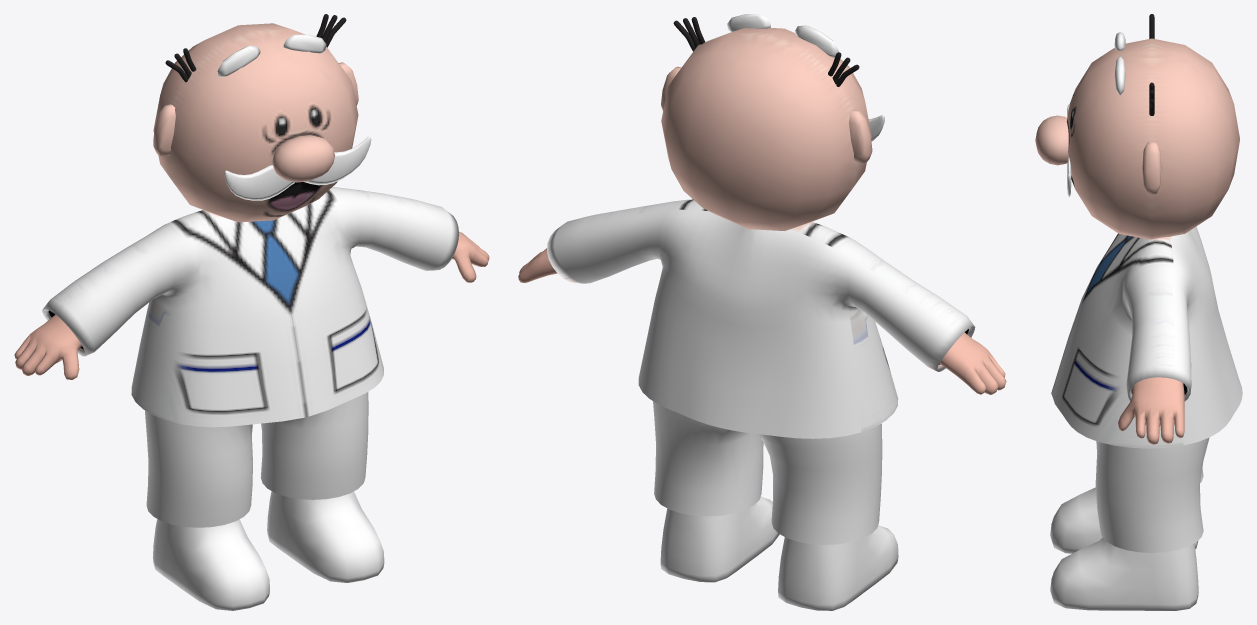
Rendered from peluche_de_dr._simi.glb.
3 renders of one model, left to right at view 1: azimuth 30°, elevation 25°; view 2: azimuth 150°, elevation 25°; view 3: azimuth 270°, elevation 25°, orthographic. The views are drawn at different scales.
Visible parts, largest first — view 1: Object_2; view 2: Object_2; view 3: Object_2.
Boxes of the visible parts, x1,y1,x2,y2 form: Object_2: (14,14,489,610); Object_2: (518,14,1006,610); Object_2: (1035,14,1242,610).
Bounding box in the file's own units: 4.8 × 5.23 × 1.87.
1 material, 1 textured.
